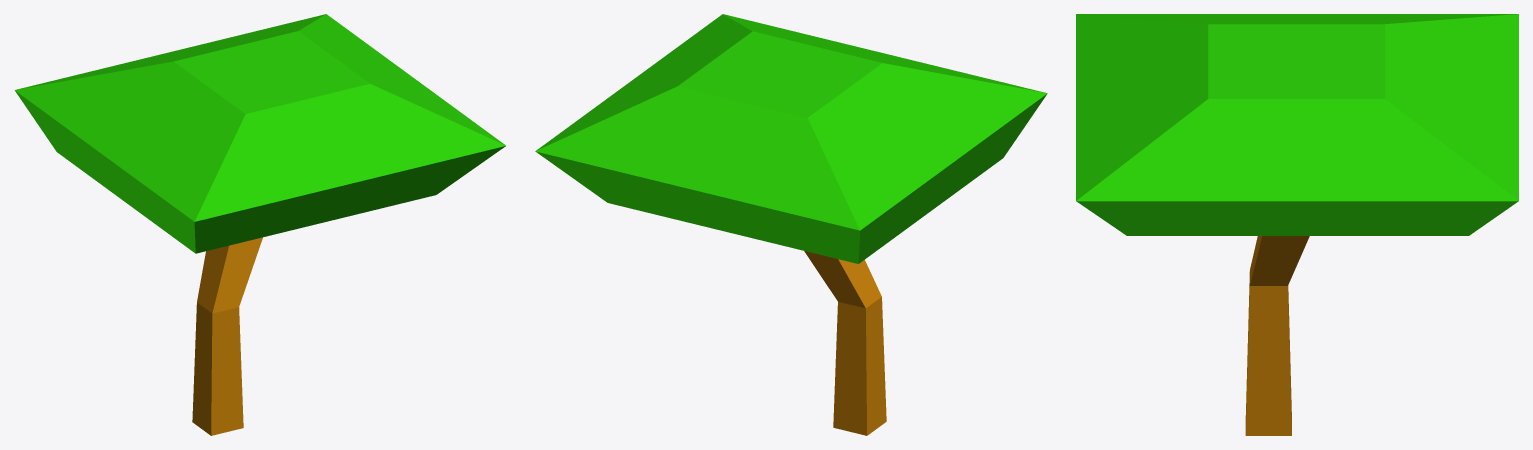
The model's file is tree1.dae.
The picture shows the model from 3 angles, left to right: view 1: azimuth 30°, elevation 25°; view 2: azimuth 150°, elevation 25°; view 3: azimuth 270°, elevation 25°; orthographic projection. The views are drawn at different scales.
Visible parts, largest first — view 1: Cube_001; view 2: Cube_001; view 3: Cube_001.
Boxes of the visible parts, x1=… form: Cube_001: x1=14, y1=14, x2=505, y2=435; Cube_001: x1=535, y1=14, x2=1047, y2=435; Cube_001: x1=1076, y1=14, x2=1518, y2=435.
Size of the model in its own units: 19.19 by 19.19 by 19.3.
